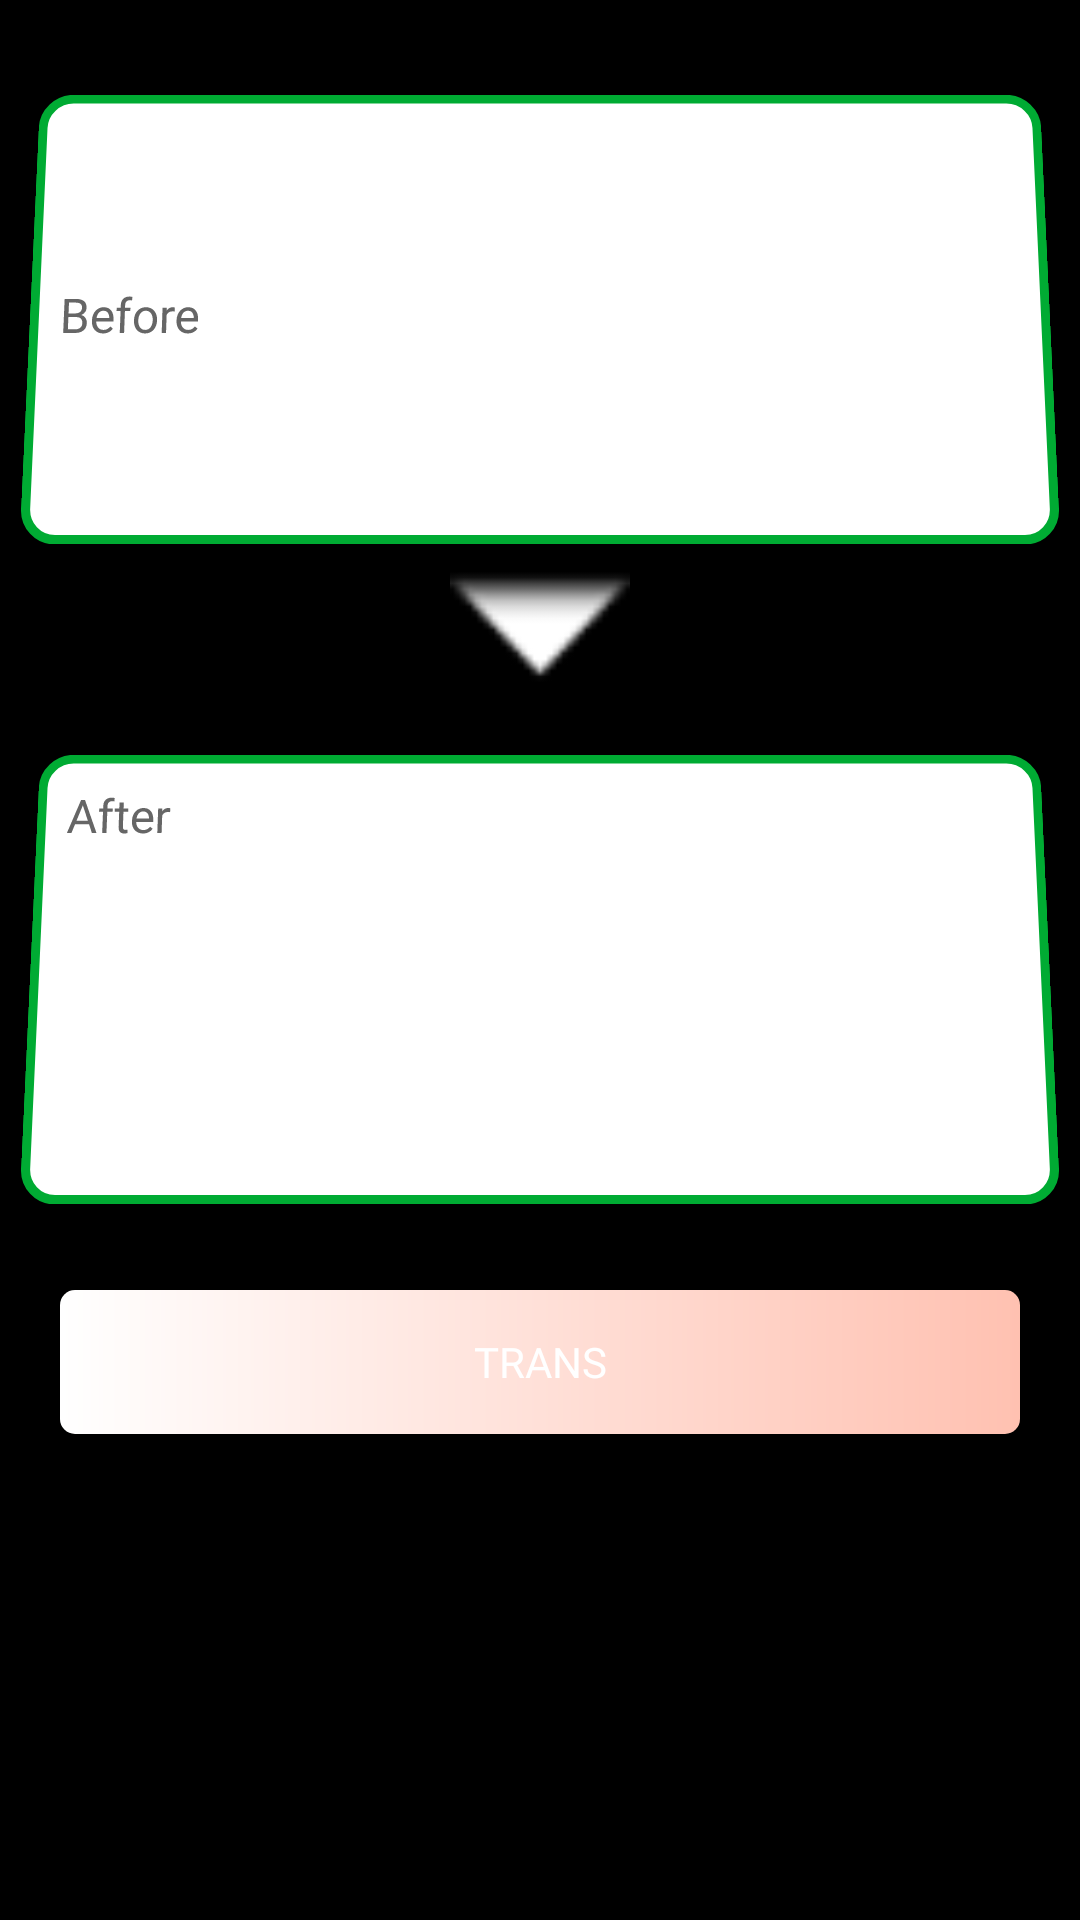

Screen size 1080x1920. Icon name, then its center in pixels as (x,y):
arrow down float: (540,627)
